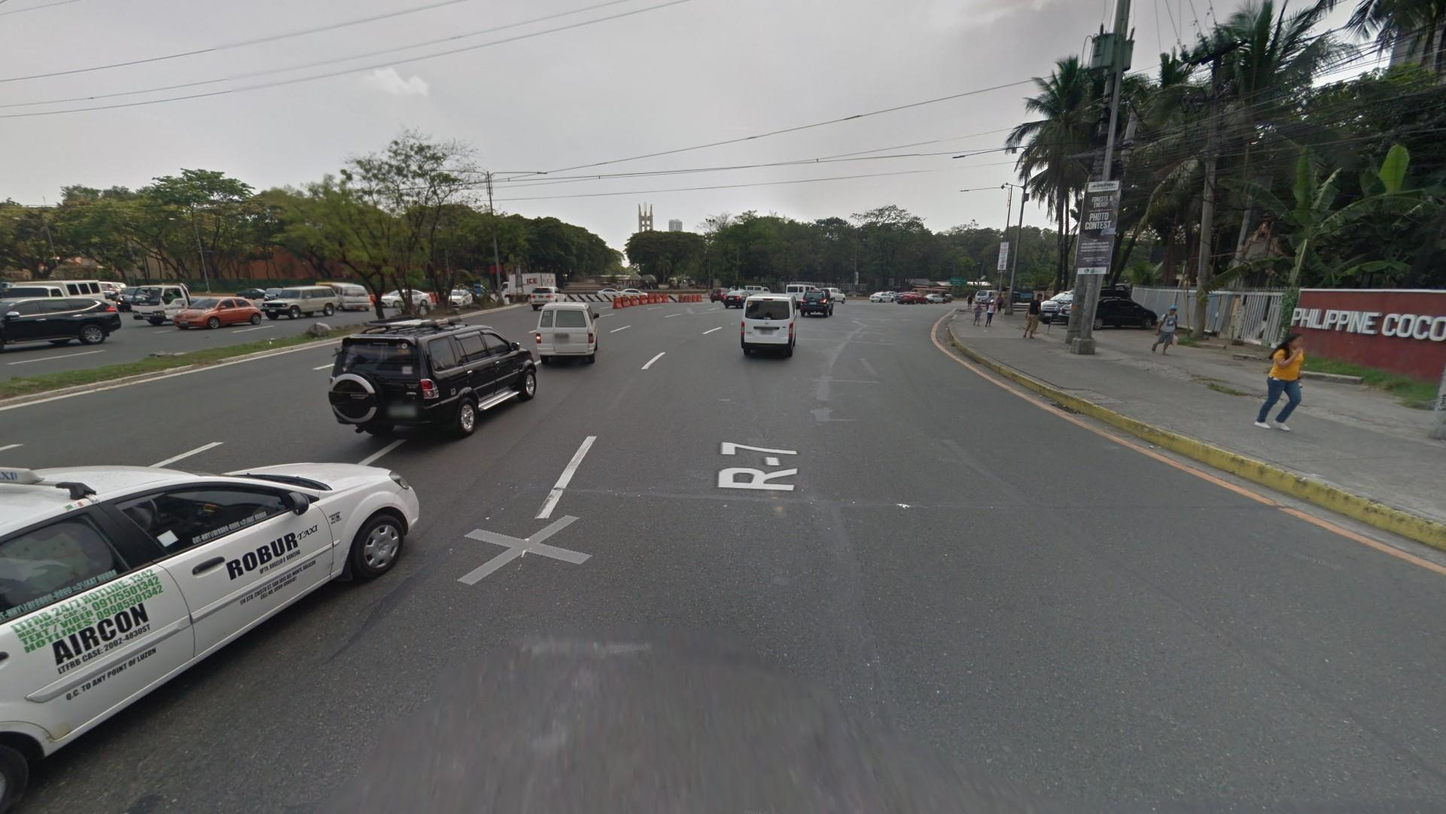pedestrian: (1253, 331, 1304, 432), (1150, 305, 1179, 356), (1021, 292, 1045, 339), (985, 299, 996, 328), (972, 302, 983, 326), (996, 292, 1004, 314), (966, 292, 973, 310)
